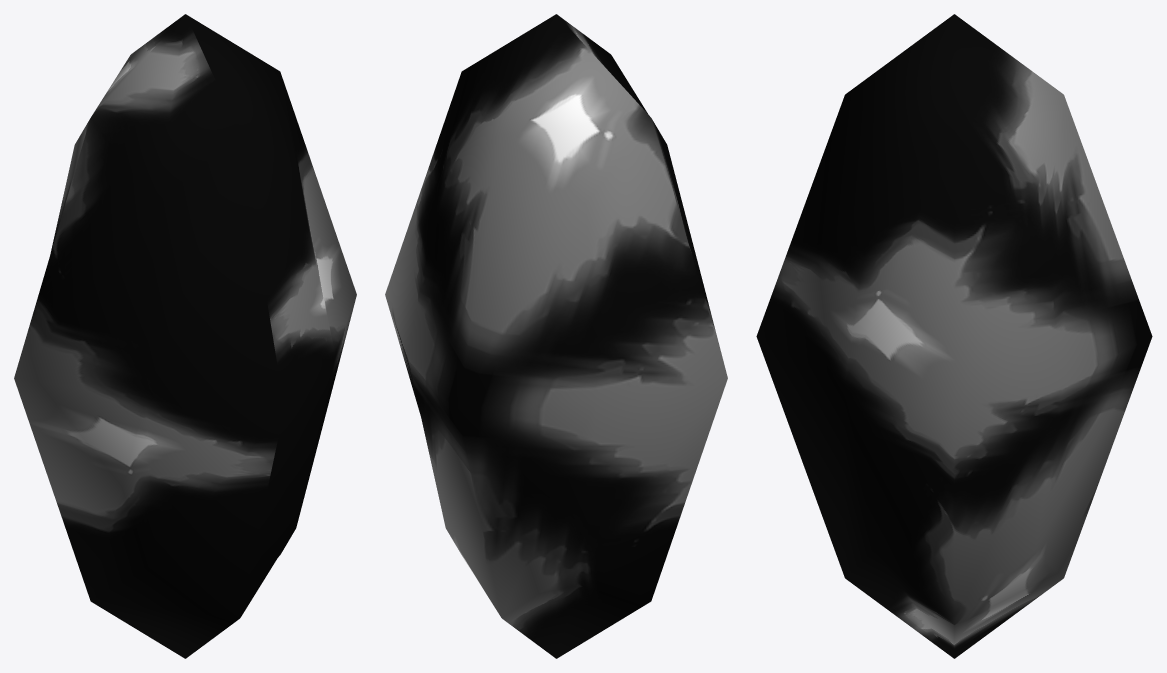
File: Md_Ice.fbx
The picture shows the model from 3 angles, left to right: view 1: azimuth 30°, elevation 25°; view 2: azimuth 150°, elevation 25°; view 3: azimuth 270°, elevation 25°; orthographic projection.
Visible parts, largest first — view 1: Md_Ice; view 2: Md_Ice; view 3: Md_Ice.
Part boxes in pixels (<box>): Md_Ice: <box>14,14,356,658</box>; Md_Ice: <box>385,14,727,658</box>; Md_Ice: <box>756,14,1152,658</box>.
Bounding box in the file's own units: 3.5 × 6.3 × 3.5.
